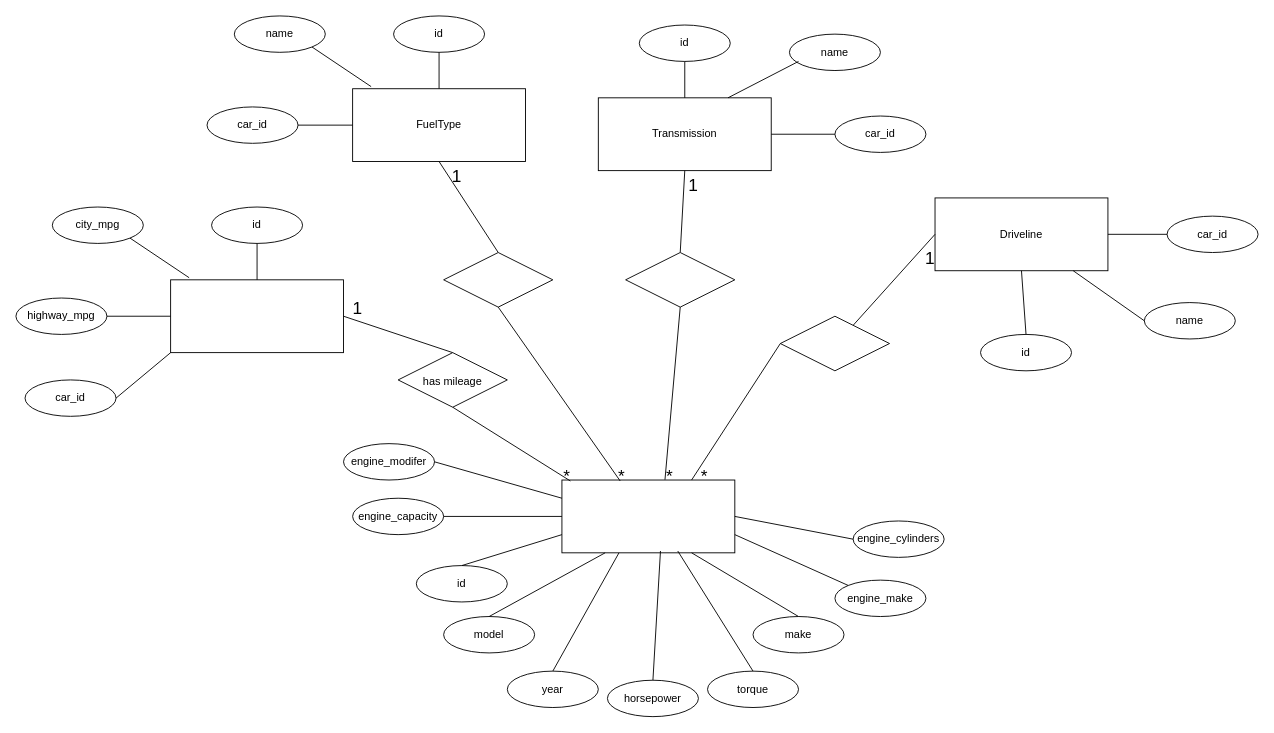
Some shapes in this 1274 by 733 pixel diagram are drawn without their labels. Here are the shapes that lost their labels. From the top down, the box of each, then its label:
(443, 252, 553, 307): has fuel type
(625, 252, 735, 307): has transmission
(170, 279, 344, 353): Mileage
(779, 315, 890, 371): has driveline
(561, 479, 735, 553): Car
